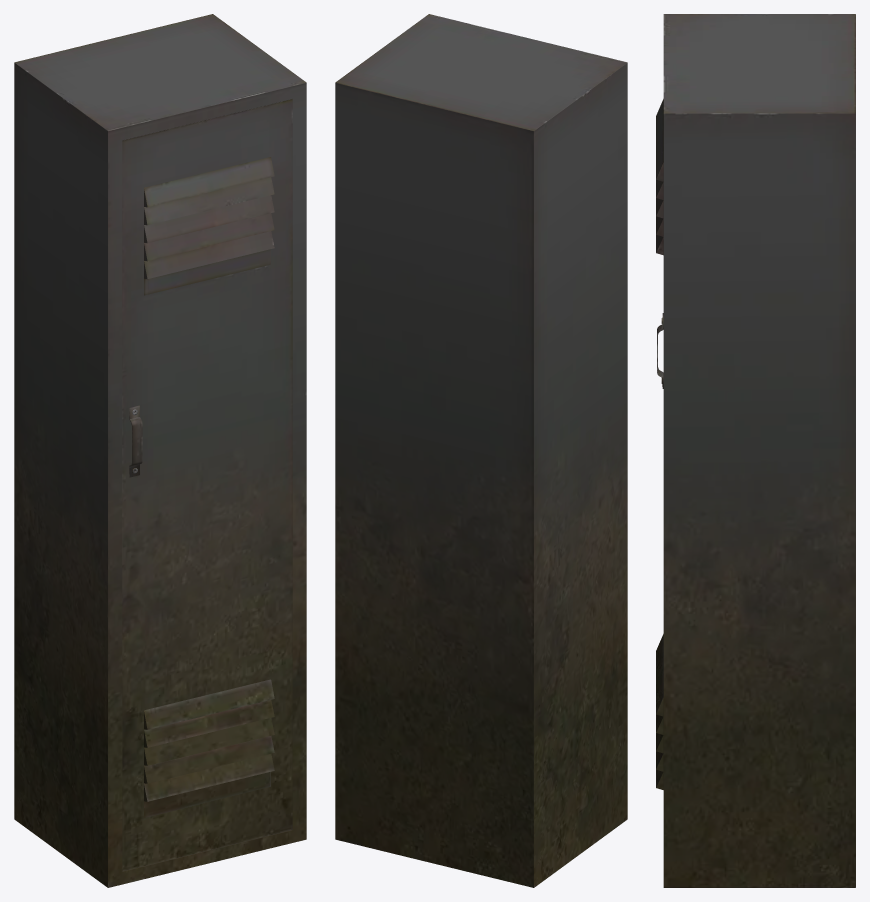
The model's file is locker.glb.
3 renders of one model, left to right at view 1: azimuth 30°, elevation 25°; view 2: azimuth 150°, elevation 25°; view 3: azimuth 270°, elevation 25°, orthographic. The views are drawn at different scales.
Visible parts, largest first — view 1: Cube.004_Material.001_0; view 2: Cube.004_Material.001_0; view 3: Cube.004_Material.001_0.
Boxes of the visible parts, x1,y1,x2,y2 form: Cube.004_Material.001_0: [14, 14, 306, 887]; Cube.004_Material.001_0: [335, 14, 627, 887]; Cube.004_Material.001_0: [656, 14, 855, 887].
Bounding box in the file's own units: 0.5502 × 2 × 0.4676.
Materials: 1 (1 with a texture image).
